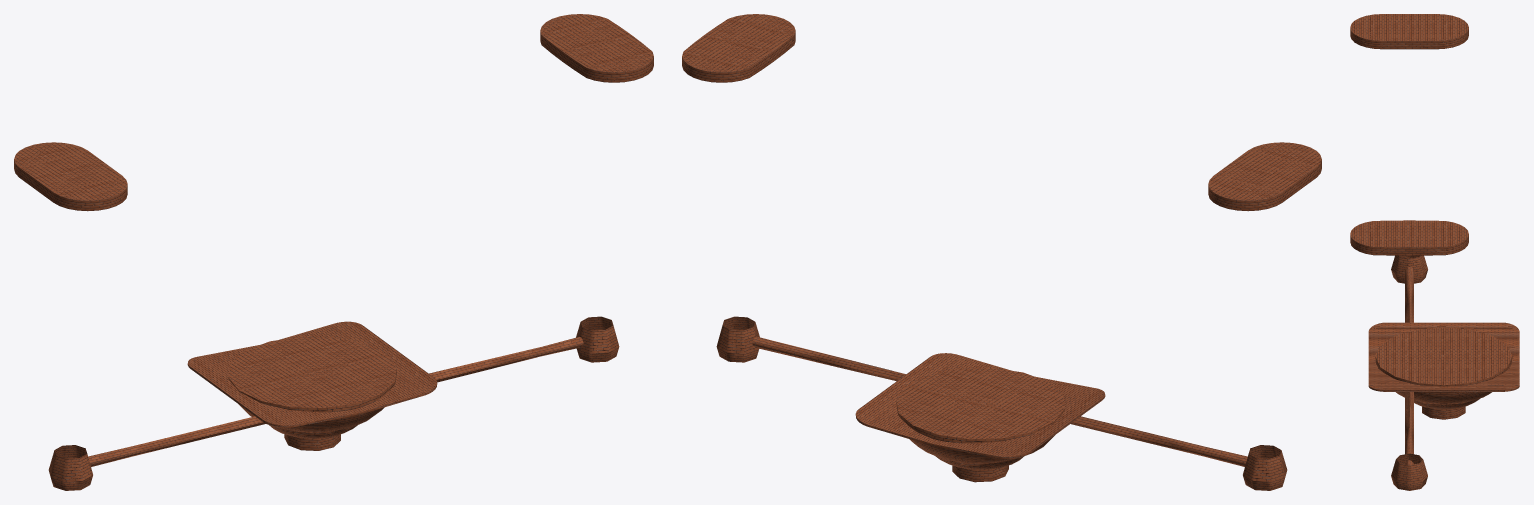
File: Blks_-_Metal_-_Aluminium_-_Black.obj
3 views of the same model, side by side, from view 1: azimuth 30°, elevation 25°; view 2: azimuth 150°, elevation 25°; view 3: azimuth 270°, elevation 25° (orthographic). The views are drawn at different scales.
Bounding box in the file's own units: 0.605 × 0.3376 × 0.1856.
Materials: 1 (1 with a texture image).
